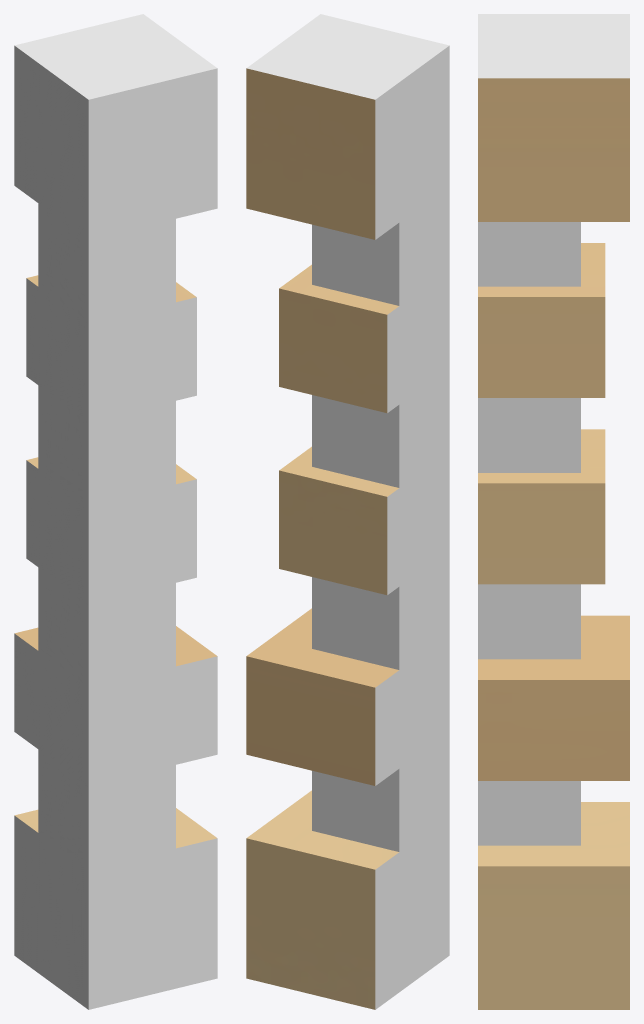
Rendered from base_outer_corner_center.fbx.
The picture shows the model from 3 angles, left to right: view 1: azimuth 30°, elevation 25°; view 2: azimuth 150°, elevation 25°; view 3: azimuth 270°, elevation 25°; orthographic projection. The views are drawn at different scales.
Parts seen in each view (by area): view 1: base.outer.wall.corner.center; view 2: base.outer.wall.corner.center; view 3: base.outer.wall.corner.center.
Part boxes in pixels (x1=…): base.outer.wall.corner.center: x1=14, y1=14, x2=217, y2=1009; base.outer.wall.corner.center: x1=246, y1=14, x2=449, y2=1009; base.outer.wall.corner.center: x1=478, y1=14, x2=629, y2=1009.
Size of the model in its own units: 44.51 by 300 by 44.35.
